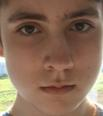without_mask: (2, 1, 103, 116)
